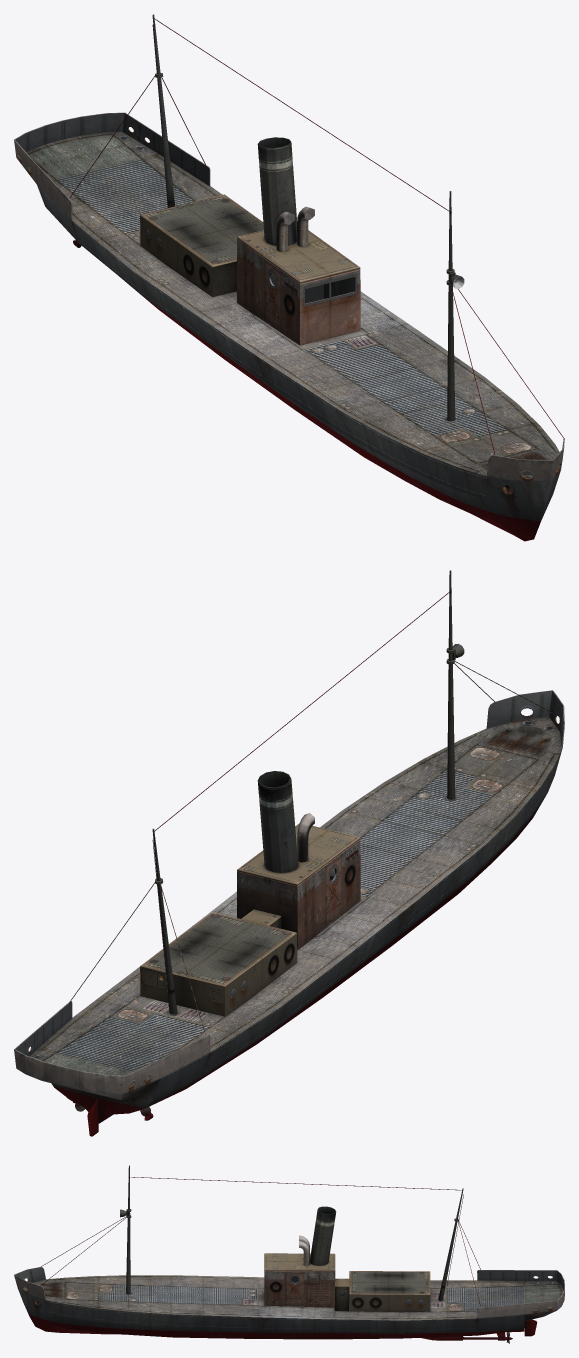
Rendered from Boat_1.FBX.
The picture shows the model from 3 angles, top to bottom: view 1: azimuth 30°, elevation 25°; view 2: azimuth 150°, elevation 25°; view 3: azimuth 270°, elevation 25°; orthographic projection. The views are drawn at different scales.
Visible parts, largest first — view 1: Boat_1; view 2: Boat_1; view 3: Boat_1.
Boxes of the visible parts, x1,y1,x2,y2 form: Boat_1: (14,14,564,541); Boat_1: (14,570,564,1136); Boat_1: (14,1165,564,1343).
Size of the model in its own units: 5.09 by 10.09 by 29.38.
1 material, 1 textured.
